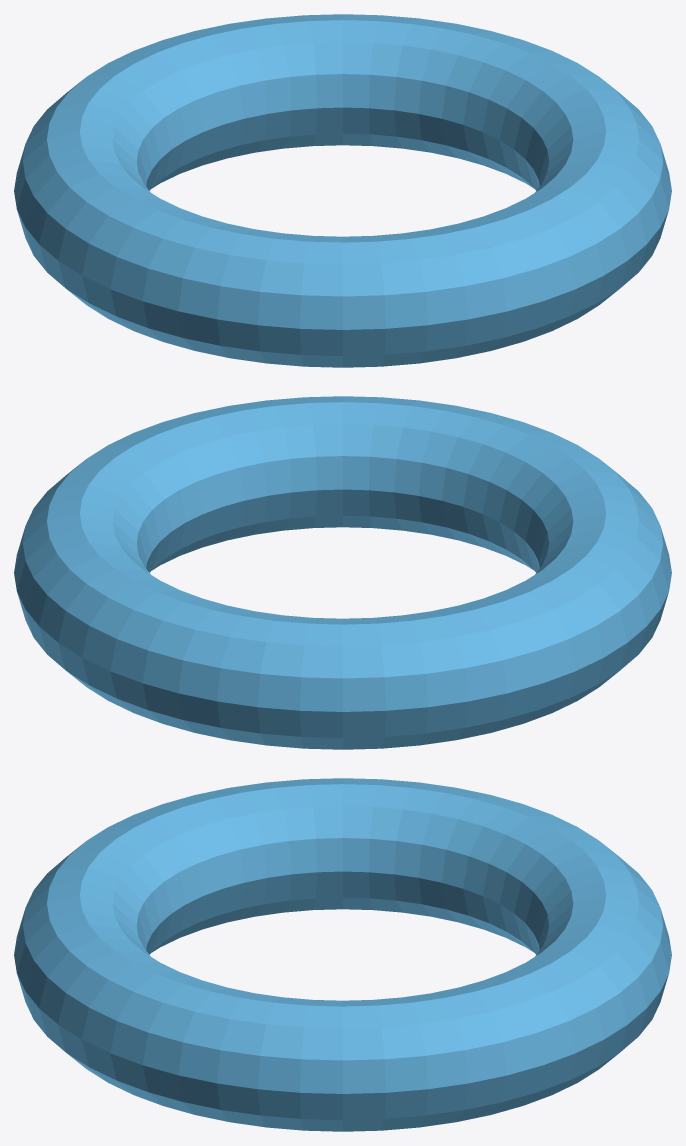
The model's file is davidConeC3.gltf.
The picture shows the model from 3 angles, top to bottom: view 1: azimuth 30°, elevation 25°; view 2: azimuth 150°, elevation 25°; view 3: azimuth 270°, elevation 25°; orthographic projection.
Parts seen in each view (by area): view 1: davidConeC3; view 2: davidConeC3; view 3: davidConeC3.
Part boxes in pixels (left/top/right/bottom): davidConeC3: left=14, top=14, right=671, bottom=367; davidConeC3: left=14, top=396, right=671, bottom=749; davidConeC3: left=14, top=778, right=671, bottom=1131.
Bounding box in the file's own units: 0.4236 × 0.0847 × 0.4236.
